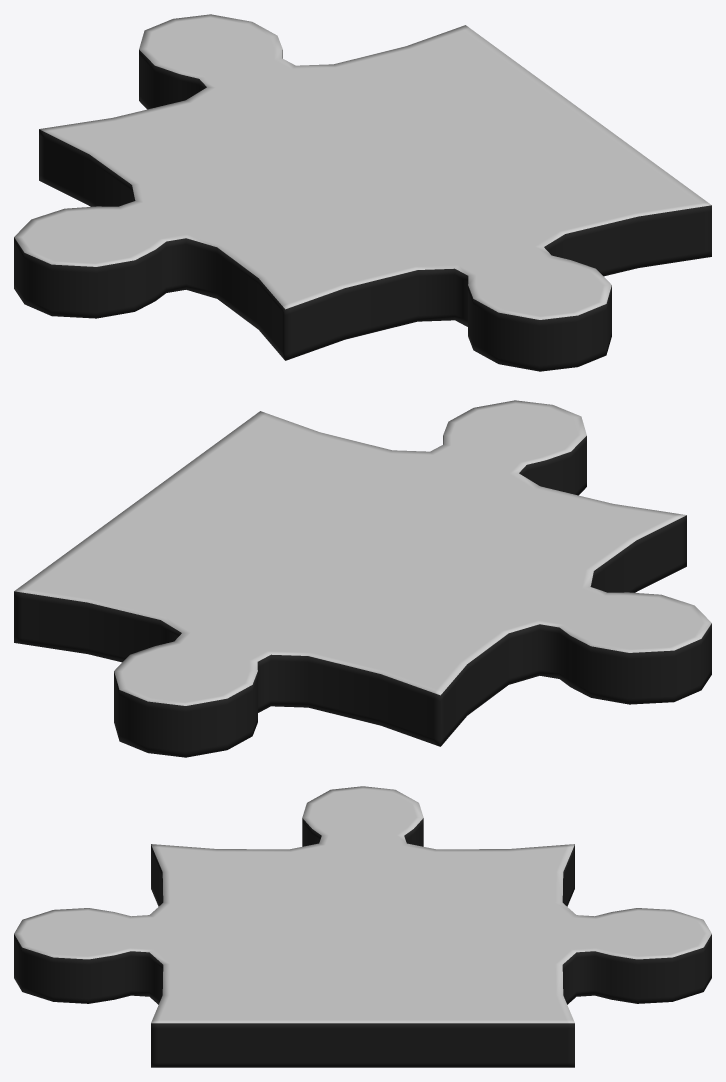
3 renders of one model, top to bottom at view 1: azimuth 30°, elevation 25°; view 2: azimuth 150°, elevation 25°; view 3: azimuth 270°, elevation 25°, orthographic. The views are drawn at different scales.
Parts seen in each view (by area): view 1: puzzle00; view 2: puzzle00; view 3: puzzle00.
Boxes of the visible parts, box(x1,y1,x2,y2) form: puzzle00: box(14, 14, 711, 371); puzzle00: box(14, 400, 711, 757); puzzle00: box(14, 786, 711, 1067).
Size of the model in its own units: 3.94 by 0.344 by 4.9.
